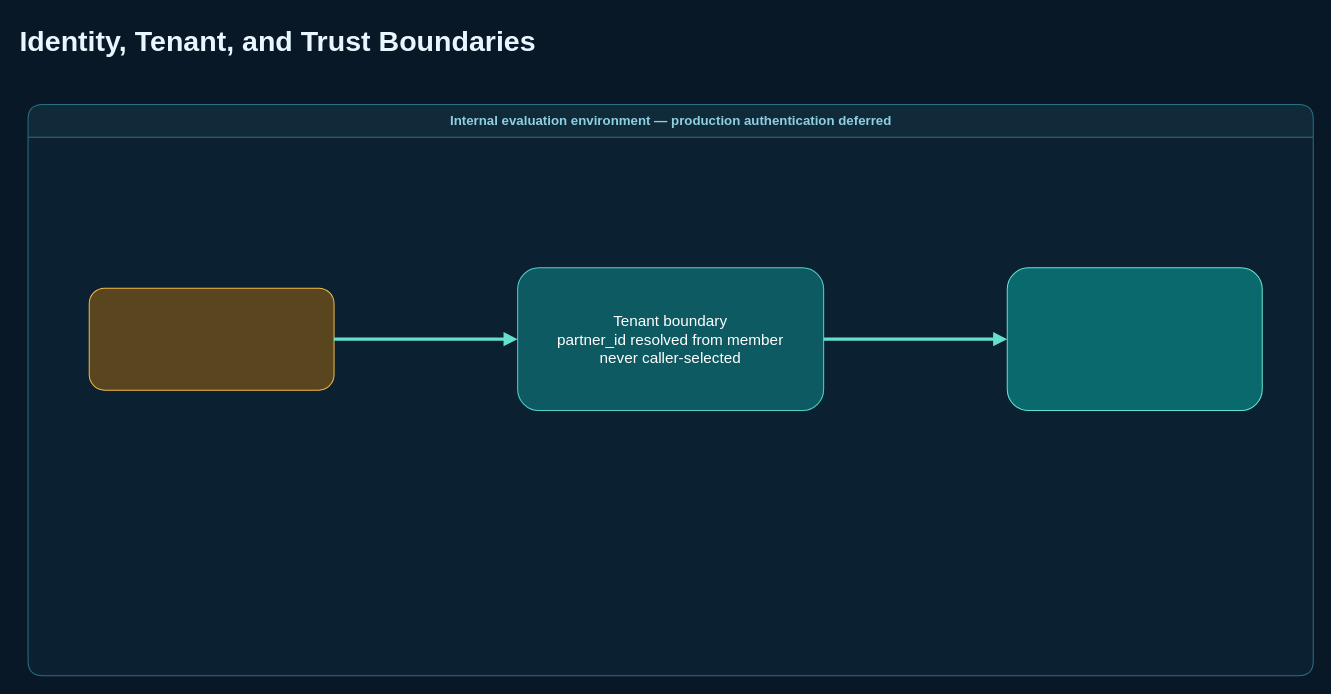
Image size: 1331x694. Some labels were removed from this diagram. The centre of each missing label's shape, as x and y in pixels:
"Operational metadata hashed member/session IDs no raw upstream bodies" goes at (1134,339).
"Untrusted request input Validated by Pydantic" goes at (211,338).
